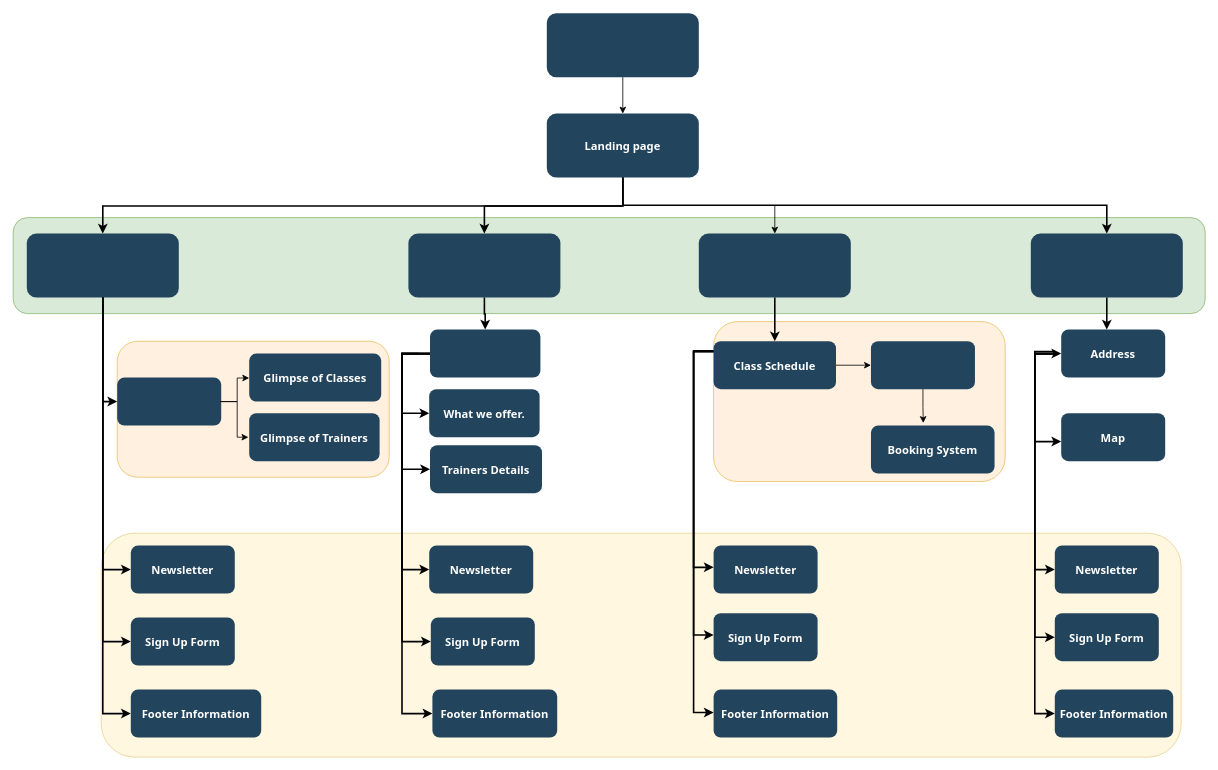
This 1218x770 diagram has some shape labels left out. The centre of each missing label's shape, as x and y in pixels:
"ABOUT" goes at point 484,265.
"CONTACT" goes at point 1106,265.
"HOME" goes at point 102,265.
"Login form" goes at point 923,365.
"Overview" goes at point 169,401.
"SERVICES" goes at point 774,265.
"Who we are." goes at point 485,353.
"ZenFit Webpage" goes at point 622,45.
